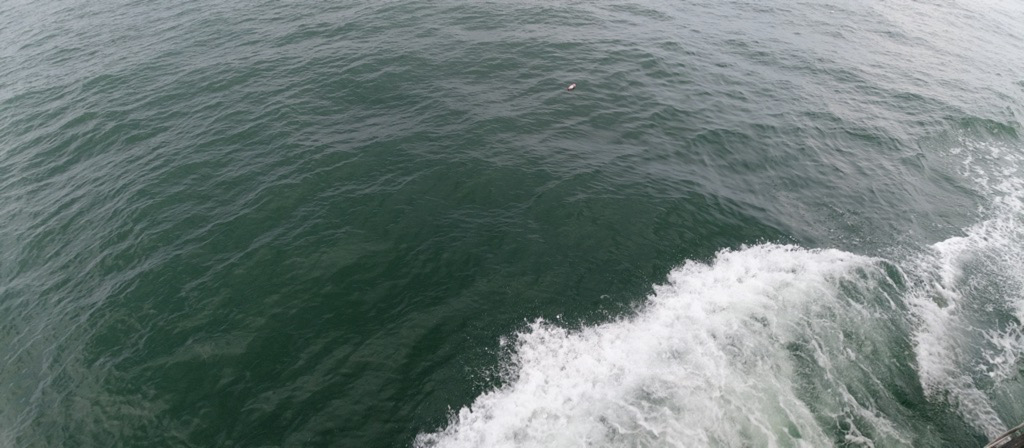plastic: (563, 80, 583, 93)
